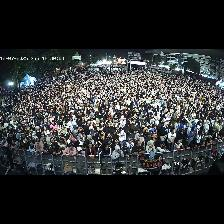person: (99, 144, 112, 169), (131, 140, 144, 155), (167, 128, 176, 149), (63, 143, 76, 157), (48, 143, 62, 156), (85, 143, 96, 159), (145, 132, 155, 148), (112, 146, 124, 159), (155, 140, 168, 152), (160, 123, 168, 141), (56, 131, 67, 144), (122, 122, 132, 136), (75, 133, 85, 147), (67, 116, 75, 133), (82, 120, 90, 136), (140, 116, 147, 134), (189, 126, 196, 143), (122, 143, 130, 157), (35, 137, 43, 151), (96, 135, 103, 151), (175, 140, 185, 151), (111, 139, 121, 150), (146, 141, 155, 153), (126, 138, 134, 151), (197, 127, 203, 144), (189, 138, 199, 148), (212, 133, 221, 144), (119, 131, 126, 144), (29, 142, 36, 155), (174, 119, 181, 132), (19, 141, 29, 150), (182, 137, 190, 148), (131, 120, 139, 131), (171, 113, 178, 125), (105, 133, 112, 145), (103, 122, 111, 132), (135, 134, 143, 144), (205, 135, 212, 146), (120, 116, 126, 128), (130, 129, 137, 139), (180, 120, 187, 130), (87, 135, 94, 145), (111, 130, 118, 140), (41, 133, 46, 145), (187, 124, 192, 136), (2, 138, 8, 148), (77, 147, 84, 155), (15, 142, 20, 153), (205, 121, 209, 132)
